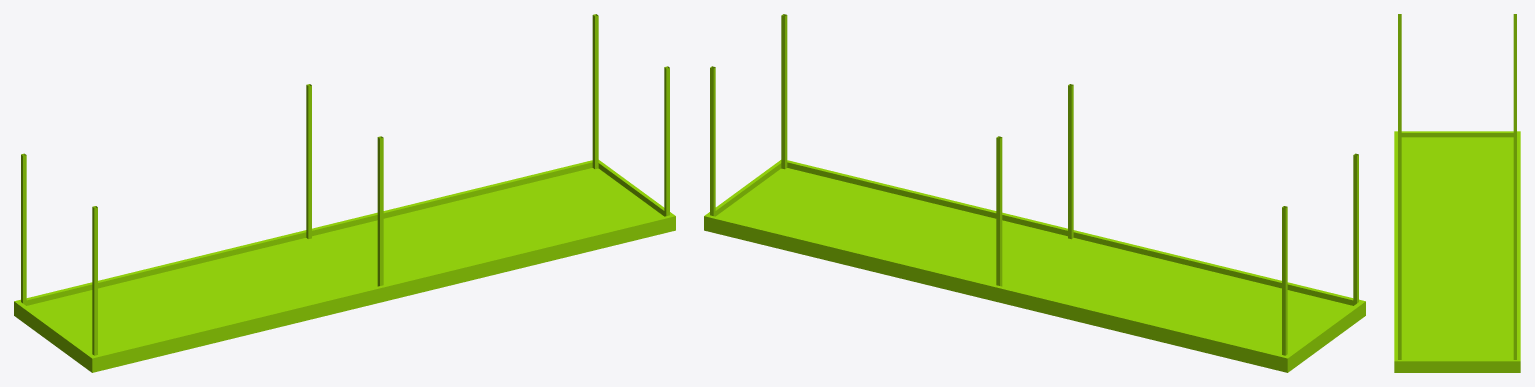
Rendered from Asset_Garage1_8.fbx.
3 renders of one model, left to right at view 1: azimuth 30°, elevation 25°; view 2: azimuth 150°, elevation 25°; view 3: azimuth 270°, elevation 25°, orthographic. The views are drawn at different scales.
Visible parts, largest first — view 1: Asset_Garage1_8; view 2: Asset_Garage1_8; view 3: Asset_Garage1_8.
Boxes of the visible parts, <box> form: Asset_Garage1_8: <box>14,14,675,372</box>; Asset_Garage1_8: <box>704,14,1365,372</box>; Asset_Garage1_8: <box>1394,14,1520,372</box>.
Bounding box in the file's own units: 244 × 64.7 × 56.64.
